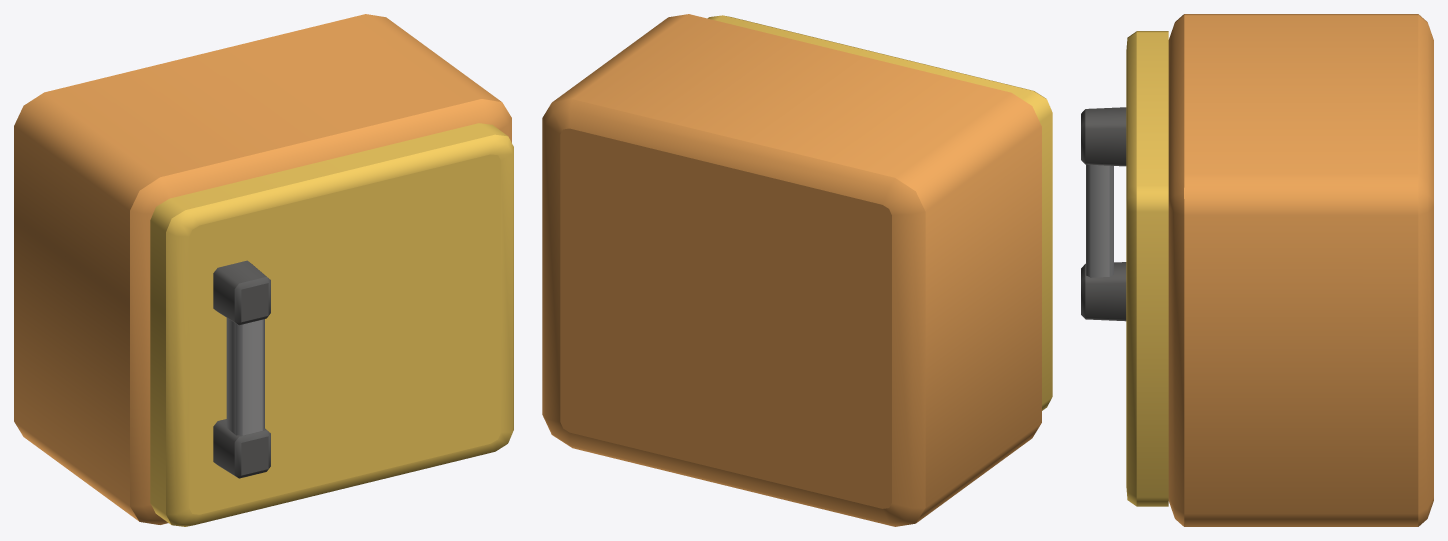
The model's file is Furnit_G_11.glb.
The picture shows the model from 3 angles, left to right: view 1: azimuth 30°, elevation 25°; view 2: azimuth 150°, elevation 25°; view 3: azimuth 270°, elevation 25°; orthographic projection.
Parts seen in each view (by area): view 1: Furnit_G_11_S1, Furnit_G_11; view 2: Furnit_G_11, Furnit_G_11_S1; view 3: Furnit_G_11, Furnit_G_11_S1.
Part boxes in pixels (box(x1,y1,x2,y2)): Furnit_G_11_S1: box(150, 123, 513, 526); Furnit_G_11: box(14, 14, 511, 524); Furnit_G_11: box(542, 14, 1041, 526); Furnit_G_11_S1: box(707, 15, 1052, 410); Furnit_G_11: box(1168, 14, 1433, 526); Furnit_G_11_S1: box(1081, 31, 1168, 506).
Bounding box in the file's own units: 0.6 × 0.5223 × 0.4755.
1 material, 1 textured.
